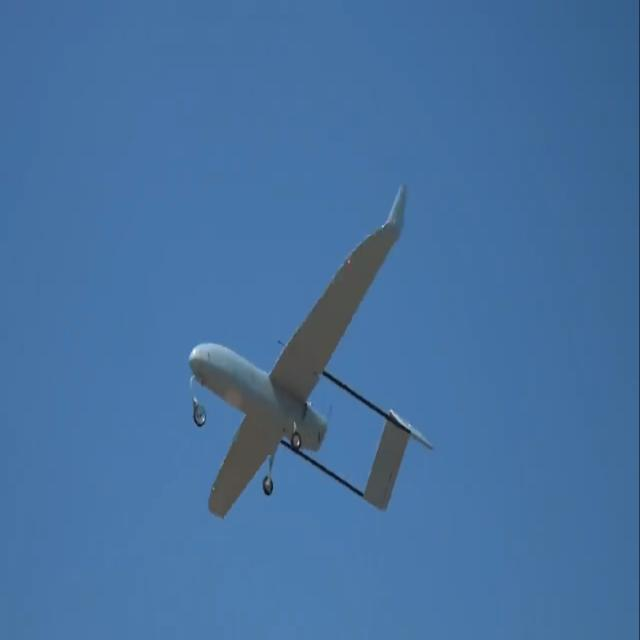drones: (148, 162, 442, 563)
